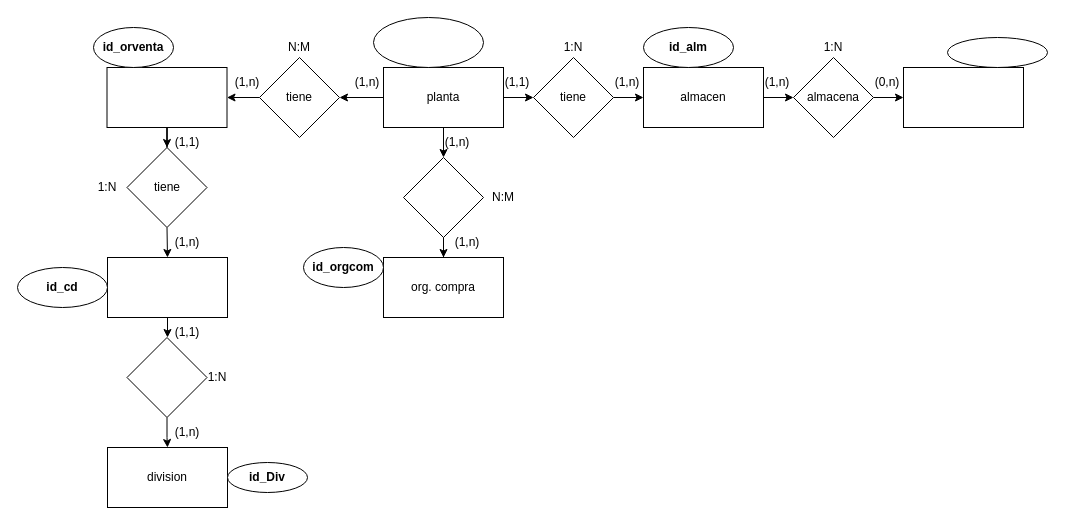
This 1065x525 diagram has some shape labels left out. Each missing label, with the centre of its shape:
"articulo" belongs at pixel 963 97.
"canal distribuccion" belongs at pixel 167 287.
"es asignado" belongs at pixel 166 377.
"id_art tipo" belongs at pixel 997 52.
"id_plan id_codempresa" belongs at pixel 428 42.
"org.venta" belongs at pixel 166 97.
"se le asigna" belongs at pixel 443 197.
